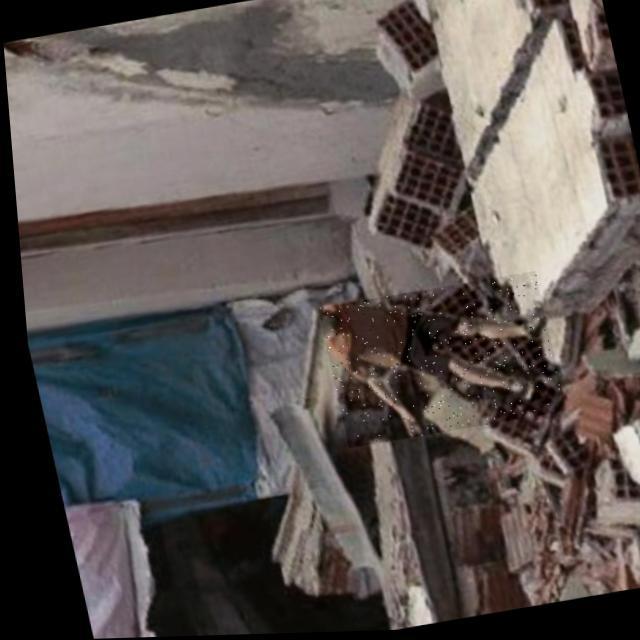Person in Rubble: (310, 272, 561, 450)
